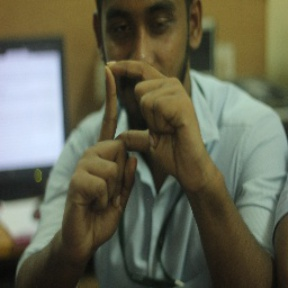D: (85, 55, 186, 164)
